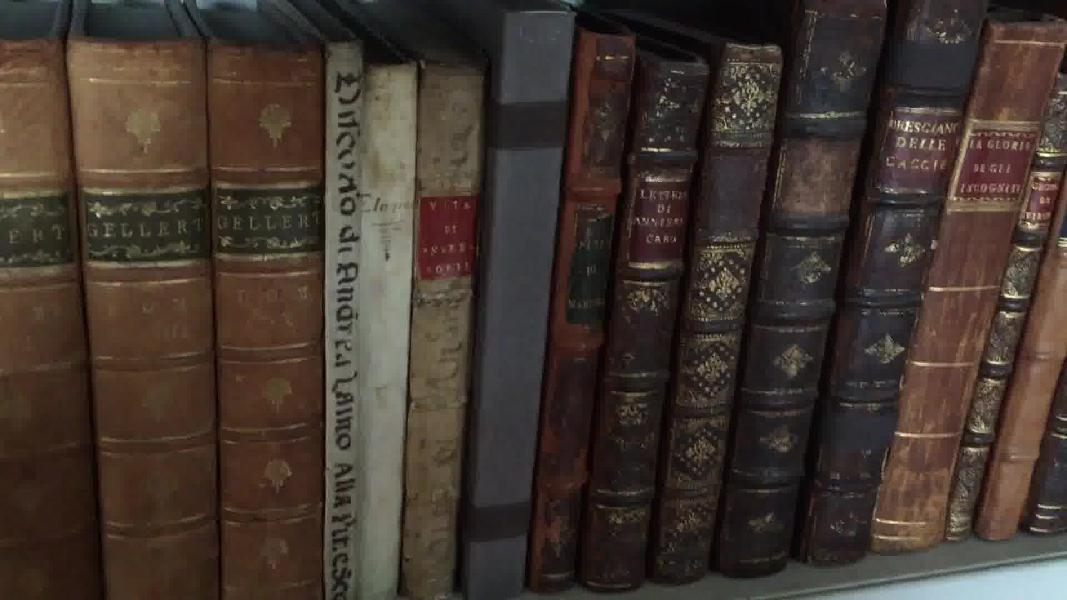Aa6-24: (317, 23, 362, 598)
Aa6-25: (361, 59, 414, 600)
Aa6-26: (413, 55, 492, 600)
Aa6-27: (463, 9, 572, 600)
Aa6-28: (531, 13, 643, 600)
Aa6-29: (585, 43, 703, 600)
Aa6-30: (655, 21, 781, 588)
Aa6-31: (720, 8, 883, 586)
Aa6-32: (808, 4, 986, 571)
Aa6-33: (879, 17, 1067, 562)
